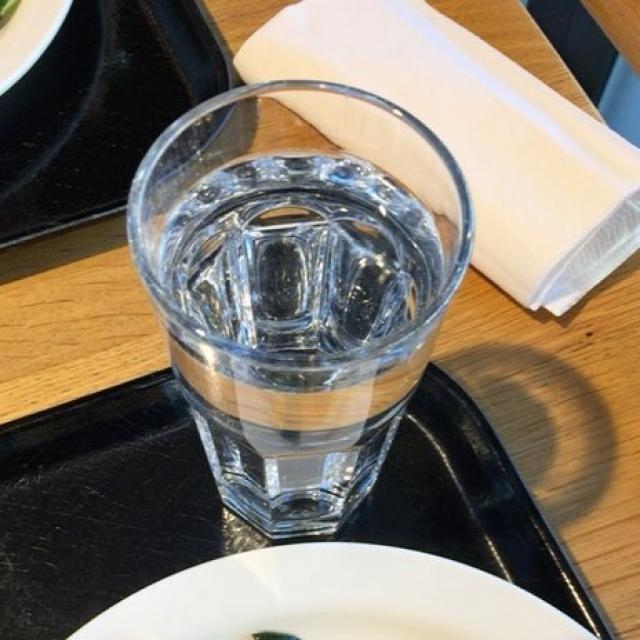water: (143, 155, 444, 546)
